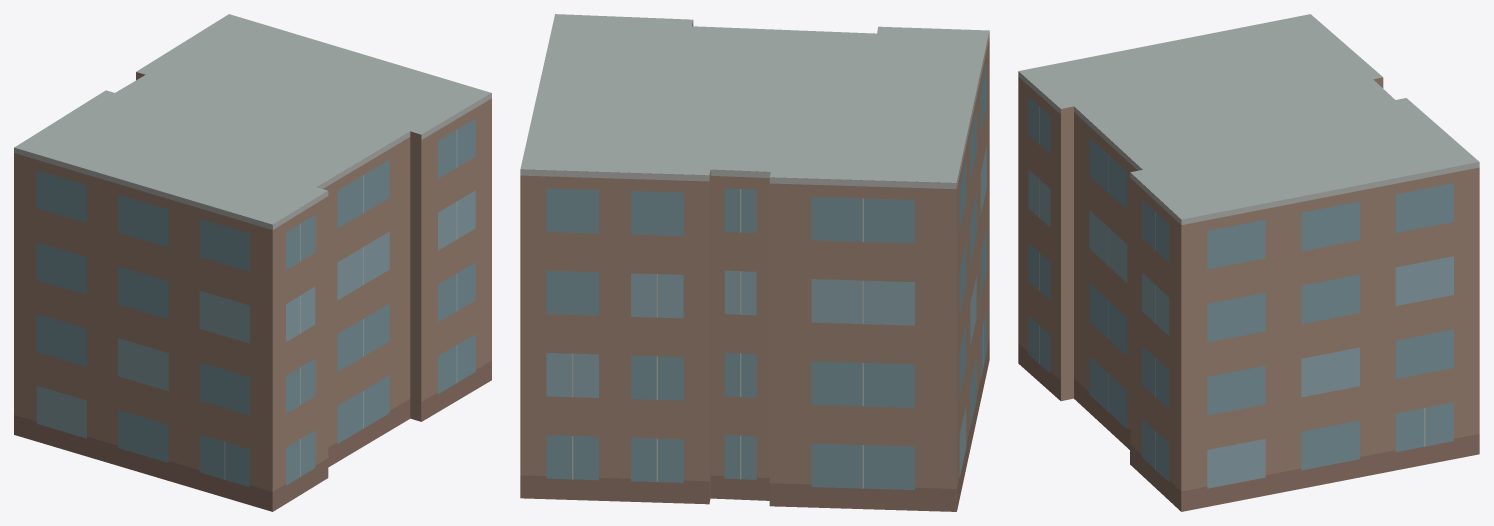
File: survey-upis-32738394.glb
The picture shows the model from 3 angles, left to right: view 1: azimuth 30°, elevation 25°; view 2: azimuth 150°, elevation 25°; view 3: azimuth 270°, elevation 25°; orthographic projection. The views are drawn at different scales.
Parts seen in each view (by area): view 1: survey-upis-32738394.tmp; view 2: survey-upis-32738394.tmp; view 3: survey-upis-32738394.tmp.
Part boxes in pixels (x1,y1,x2,y2): survey-upis-32738394.tmp: (14,14,491,511); survey-upis-32738394.tmp: (520,14,989,511); survey-upis-32738394.tmp: (1018,14,1479,511).
Bounding box in the file's own units: 19.48 × 12.9 × 18.47.
